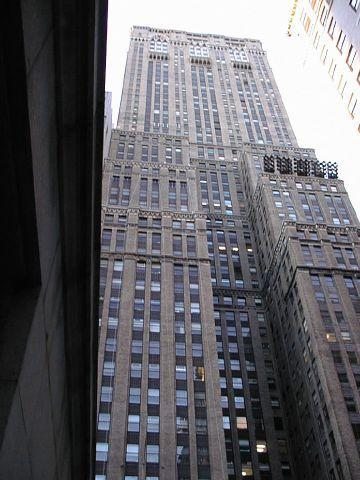building: (102, 21, 360, 480), (0, 0, 112, 480), (284, 1, 360, 142)
